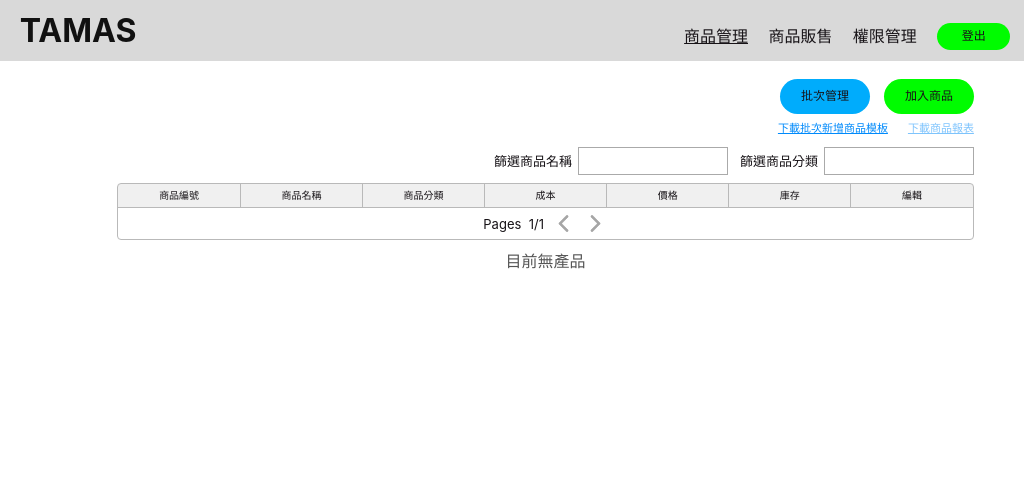
Test: App session flow › switches between product management and the sell page while keeping the authenticated session
Expected: the text "目前無產品" is shown, [506,251,586,271]
Click the button "商品販售" at (800, 36), box [768,27,832,46]
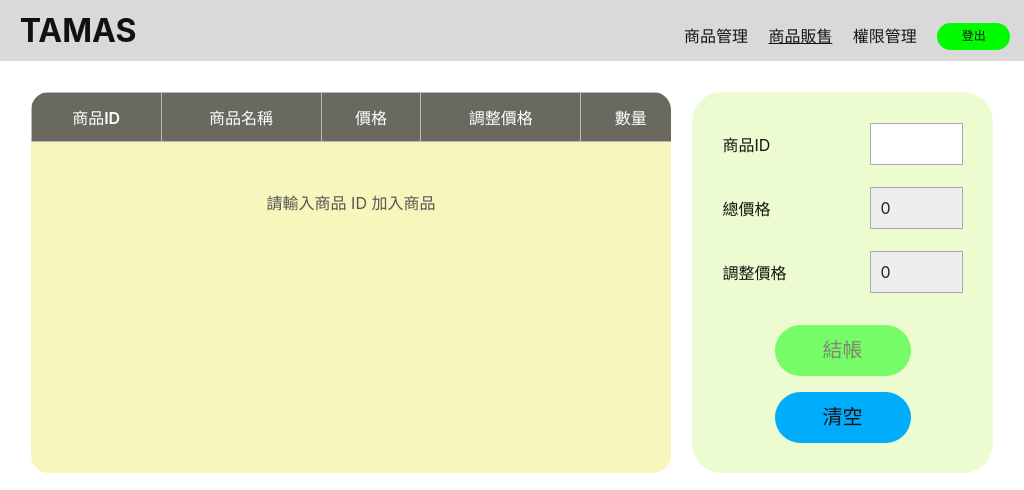
Expected: the button "登出" is shown, [937,23,1010,50]
Expected: the element named "商品資訊" is shown, [31,92,671,473]
Click the button "商品管理" at (716, 36), box [684,27,748,46]
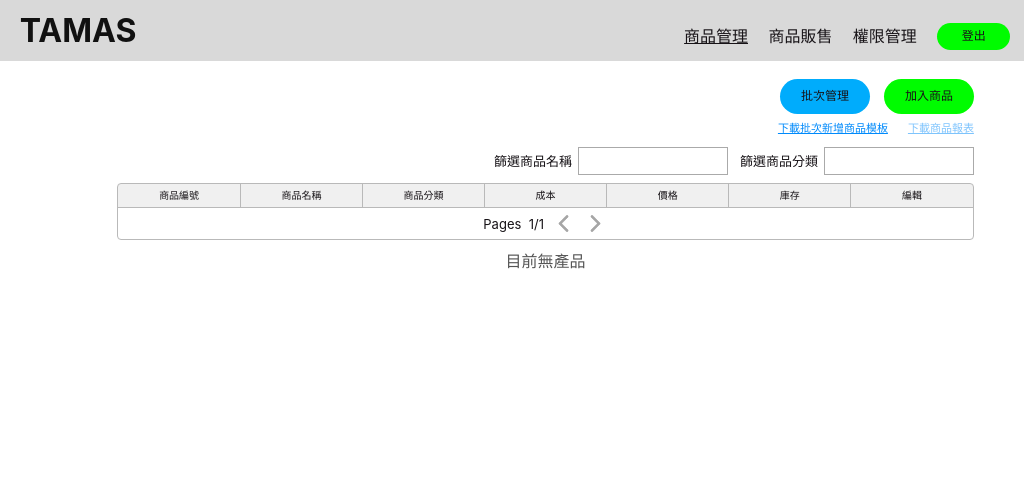
Expected: the text "目前無產品" is shown, [506,251,586,271]
